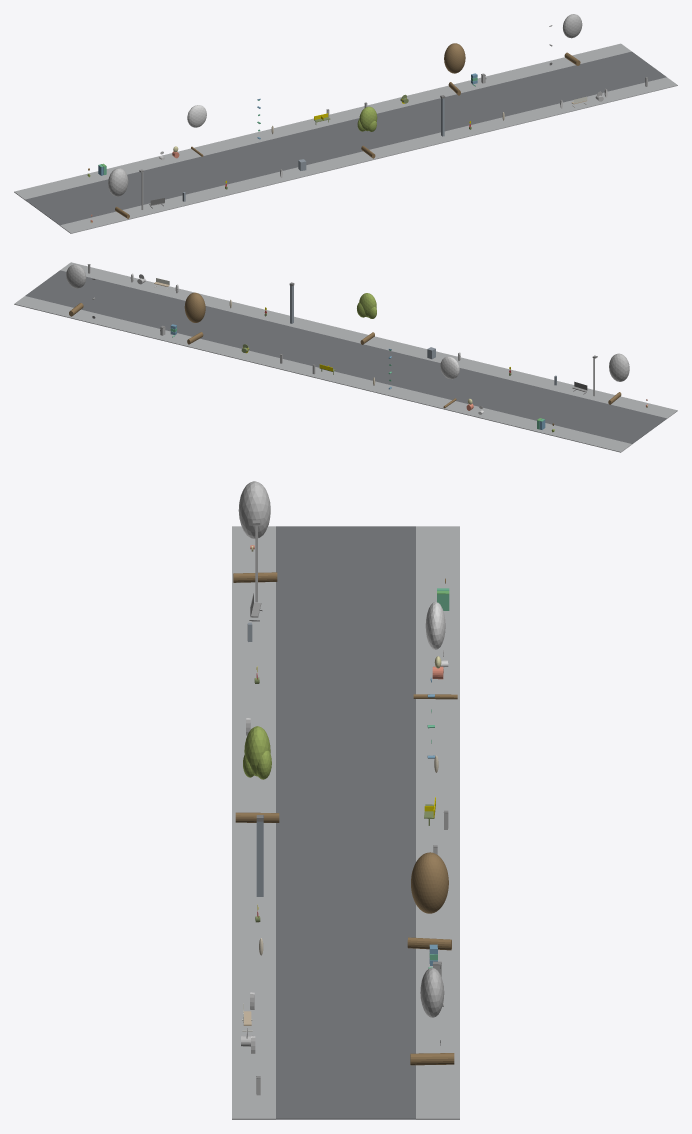
The picture shows the model from 3 angles, top to bottom: view 1: azimuth 30°, elevation 25°; view 2: azimuth 150°, elevation 25°; view 3: azimuth 270°, elevation 25°; orthographic projection. The views are drawn at different scales.
Parts seen in each view (by area): view 1: road_slab, sidewalk_left, sidewalk_right, inst_0015, inst_0012, inst_0014, inst_0016, inst_0013; view 2: road_slab, sidewalk_right, sidewalk_left, inst_0015, inst_0012, inst_0014, inst_0016, inst_0013; view 3: road_slab, sidewalk_left, sidewalk_right, inst_0015, inst_0012, inst_0014, inst_0016, inst_0013.
Part boxes in pixels (<box>): road_slab: <box>25,51,666,225</box>; sidewalk_left: <box>60,77,677,233</box>; sidewalk_right: <box>14,43,631,199</box>; inst_0015: <box>444,43,465,95</box>; inst_0012: <box>108,168,129,218</box>; inst_0014: <box>357,106,377,158</box>; inst_0016: <box>563,14,582,65</box>; inst_0013: <box>187,105,206,156</box>; road_slab: <box>25,270,666,444</box>; sidewalk_right: <box>14,296,631,452</box>; sidewalk_left: <box>60,262,677,418</box>; inst_0015: <box>184,292,205,344</box>; inst_0012: <box>608,353,629,404</box>; inst_0014: <box>357,293,376,344</box>; inst_0016: <box>66,264,86,316</box>; inst_0013: <box>440,356,459,408</box>; road_slab: <box>276,526,415,1119</box>; sidewalk_left: <box>232,526,275,1119</box>; sidewalk_right: <box>416,526,459,1119</box>; inst_0015: <box>407,852,451,950</box>; inst_0012: <box>233,481,277,582</box>; inst_0014: <box>235,726,279,822</box>; inst_0016: <box>410,967,454,1065</box>; inst_0013: <box>413,602,457,699</box>.
Size of the model in its own units: 80 by 6.08 by 13.
